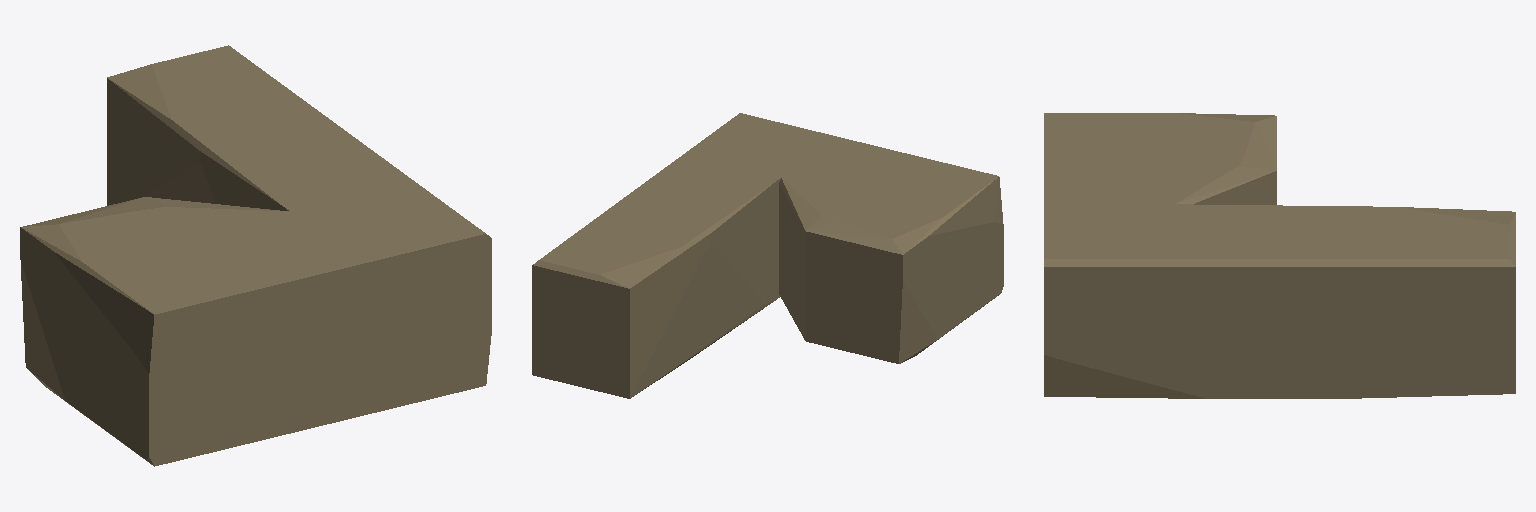
The robot description file, URDF, robot "J_Block":
<?xml version="1.0"?>
<robot name="J_Block">
  <link name="base_link">
    <visual>
      <origin xyz="0 0 0" rpy="0 0 0" />
      <geometry>
        <mesh filename="J_Block_decimated.obj" />      
      </geometry>
      <material name="tan">
        <color rgba="0.55 0.5 0.4 1" />
      </material>
    </visual>
    <collision>
      <origin xyz="0 0 0" rpy="0 0 0" />
      <geometry>
        <mesh filename="J_Block_decimated.obj" />
      </geometry>
    </collision>
  </link>
</robot>

--- Facts derived from the render (not from the file) ---
The picture shows the robot from 3 angles, left to right: view 1: azimuth 30°, elevation 25°; view 2: azimuth 150°, elevation 25°; view 3: azimuth 270°, elevation 25°; orthographic projection.
Robot: J_Block — 1 links, 0 joints (none); root link base_link; default pose: every joint at zero.
Links seen in each view (by area): view 1: base_link; view 2: base_link; view 3: base_link.
Boxes of the visible links, x1,y1,x2,y2 form: base_link: (20,45,491,466); base_link: (532,113,1003,398); base_link: (1044,113,1515,398).
Size in the robot's own frame: 38.47 by 50.72 by 16.32 metres.
1 mesh visuals loaded from 1 distinct referenced files (1 OBJ).
